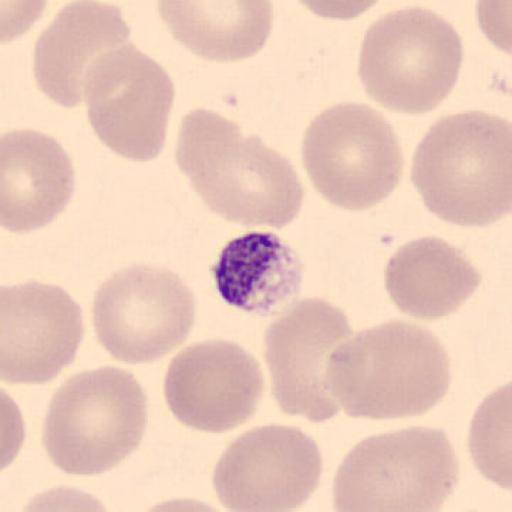Platelet: (207, 228, 308, 318)
RBC: (174, 106, 307, 231), (321, 316, 454, 422), (409, 107, 511, 230), (41, 364, 150, 478), (261, 294, 355, 424), (356, 4, 464, 116), (299, 99, 405, 213), (81, 42, 176, 165), (90, 260, 198, 366), (331, 424, 460, 512), (32, 0, 133, 111), (210, 421, 325, 512), (162, 336, 266, 434), (3, 278, 85, 386), (383, 233, 483, 321), (1, 126, 77, 236), (152, 0, 275, 63), (468, 380, 512, 493), (17, 484, 117, 512), (1, 386, 26, 476), (1, 0, 50, 45), (290, 0, 391, 21), (475, 0, 512, 56), (128, 493, 236, 512)
